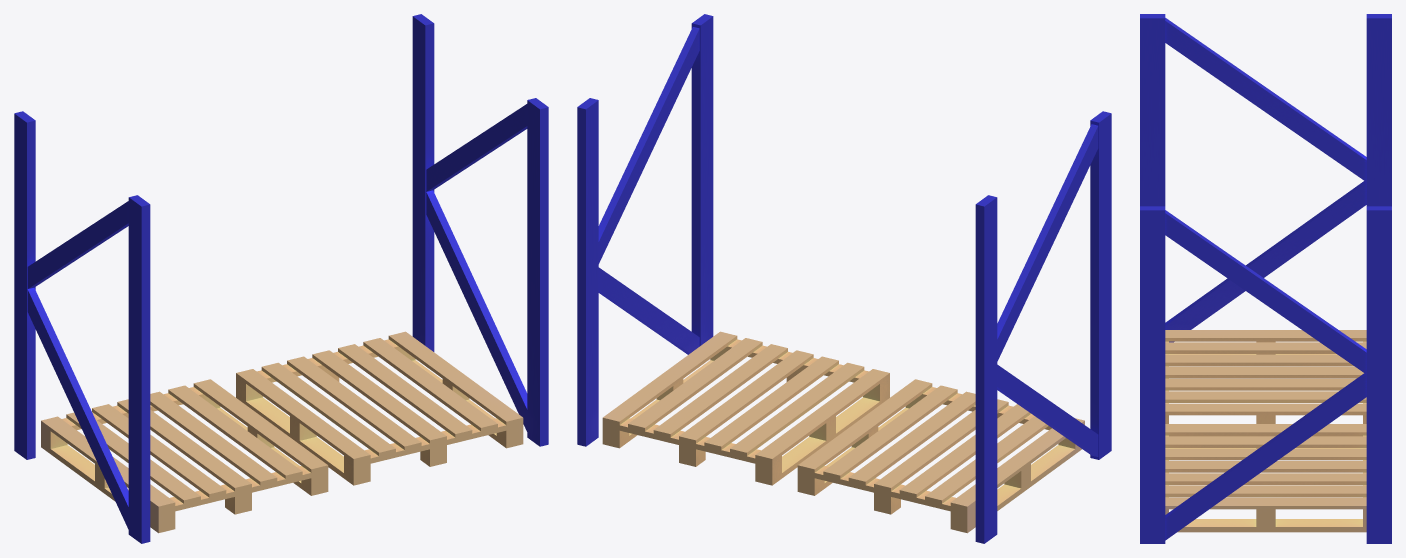
Rendered from Longarina_Separado_2pallets_chão_128.glb.
3 views of the same model, side by side, from view 1: azimuth 30°, elevation 25°; view 2: azimuth 150°, elevation 25°; view 3: azimuth 270°, elevation 25° (orthographic).
Visible parts, largest first — view 1: Barras_Laterais; view 2: Barras_Laterais; view 3: Barras_Laterais.
Part boxes in pixels (x1,y1,x2,y2): Barras_Laterais: [14, 14, 548, 543]; Barras_Laterais: [577, 14, 1111, 543]; Barras_Laterais: [1140, 14, 1391, 543].
Size of the model in its own units: 2.4 by 1.9 by 1.3.
Materials: 1 (1 with a texture image).
